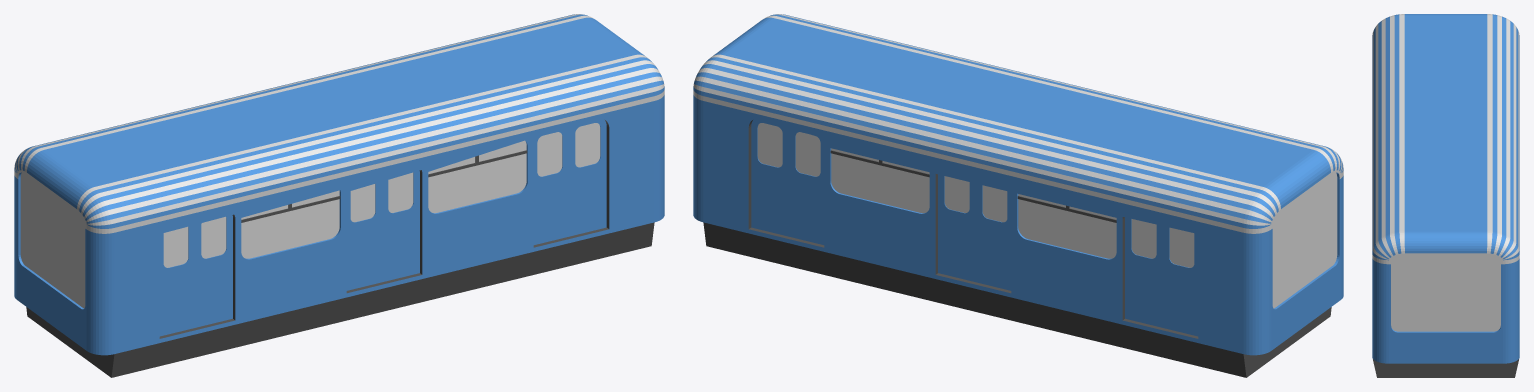
File: metro.fbx
3 views of the same model, side by side, from view 1: azimuth 30°, elevation 25°; view 2: azimuth 150°, elevation 25°; view 3: azimuth 270°, elevation 25° (orthographic). The views are drawn at different scales.
Visible parts, largest first — view 1: Cube.001, Cube.005, Cube.027, Cube.018, Cube.011, Cube.013, Cube.008, Cube.010, Cube.012, Cube.006, Cube.046, Cube.047 (+4 smaller); view 2: Cube.001, Cube.005, Cube.024, Cube.021, Cube.004, Cube.015, Cube.017, Cube.002, Cube.014, Cube.016, Cube.055, Cube.054 (+4 smaller); view 3: Cube.001, Cube.003.
Boxes of the visible parts, <box> form: Cube.001: <box>14,14,664,377</box>; Cube.005: <box>20,173,85,308</box>; Cube.027: <box>428,140,526,213</box>; Cube.018: <box>241,190,339,258</box>; Cube.011: <box>569,118,606,236</box>; Cube.013: <box>195,215,232,327</box>; Cube.008: <box>382,170,419,282</box>; Cube.010: <box>533,126,568,244</box>; Cube.012: <box>159,225,194,336</box>; Cube.006: <box>346,182,381,290</box>; Cube.046: <box>537,132,562,176</box>; Cube.047: <box>575,123,600,167</box>; Cube.001: <box>693,14,1343,377</box>; Cube.005: <box>1272,173,1337,308</box>; Cube.024: <box>831,148,929,213</box>; Cube.021: <box>1018,194,1116,258</box>; Cube.004: <box>751,118,788,236</box>; Cube.015: <box>1125,217,1162,327</box>; Cube.017: <box>938,174,975,282</box>; Cube.002: <box>789,128,824,244</box>; Cube.014: <box>1163,226,1198,336</box>; Cube.016: <box>976,183,1011,290</box>; Cube.055: <box>757,123,782,167</box>; Cube.054: <box>795,132,820,176</box>; Cube.001: <box>1372,14,1519,377</box>; Cube.003: <box>1391,256,1500,331</box>.
Bounding box in the file's own units: 2000 × 594 × 542.
